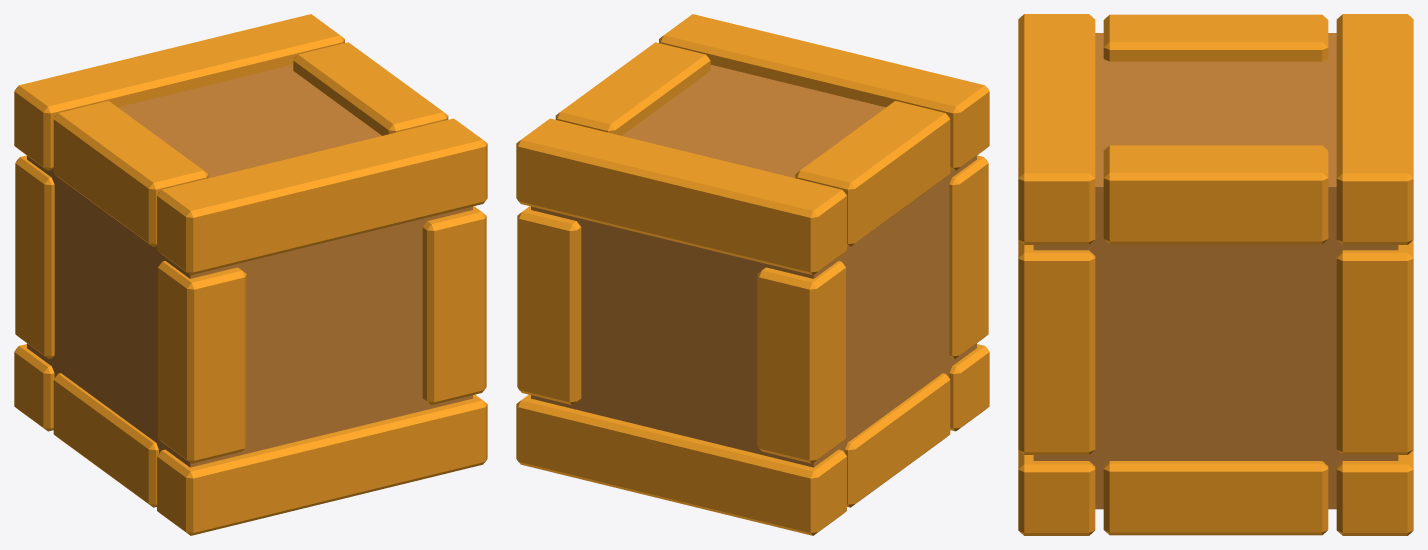
The model's file is SM_Prop_Crate_02.glb.
3 views of the same model, side by side, from view 1: azimuth 30°, elevation 25°; view 2: azimuth 150°, elevation 25°; view 3: azimuth 270°, elevation 25° (orthographic). The views are drawn at different scales.
Parts seen in each view (by area): view 1: SM_Prop_Crate_02; view 2: SM_Prop_Crate_02; view 3: SM_Prop_Crate_02.
Part boxes in pixels (x1,y1,x2,y2): SM_Prop_Crate_02: (14, 14, 487, 535); SM_Prop_Crate_02: (516, 14, 989, 535); SM_Prop_Crate_02: (1018, 14, 1413, 535).
Bounding box in the file's own units: 0.9819 × 1.01 × 0.999.
1 material, 1 textured.
